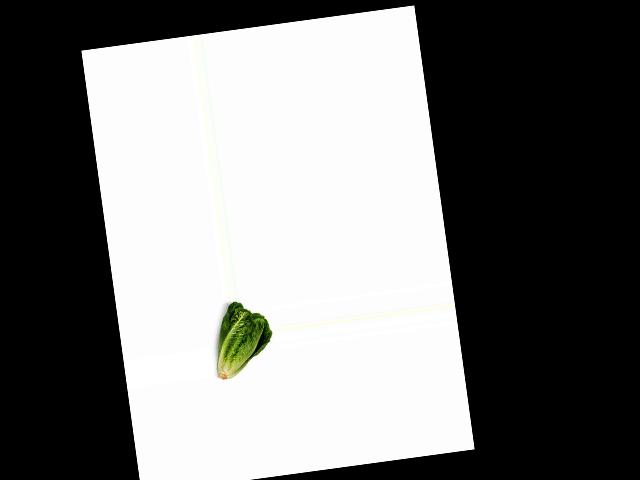lettuce: (207, 297, 277, 381)
